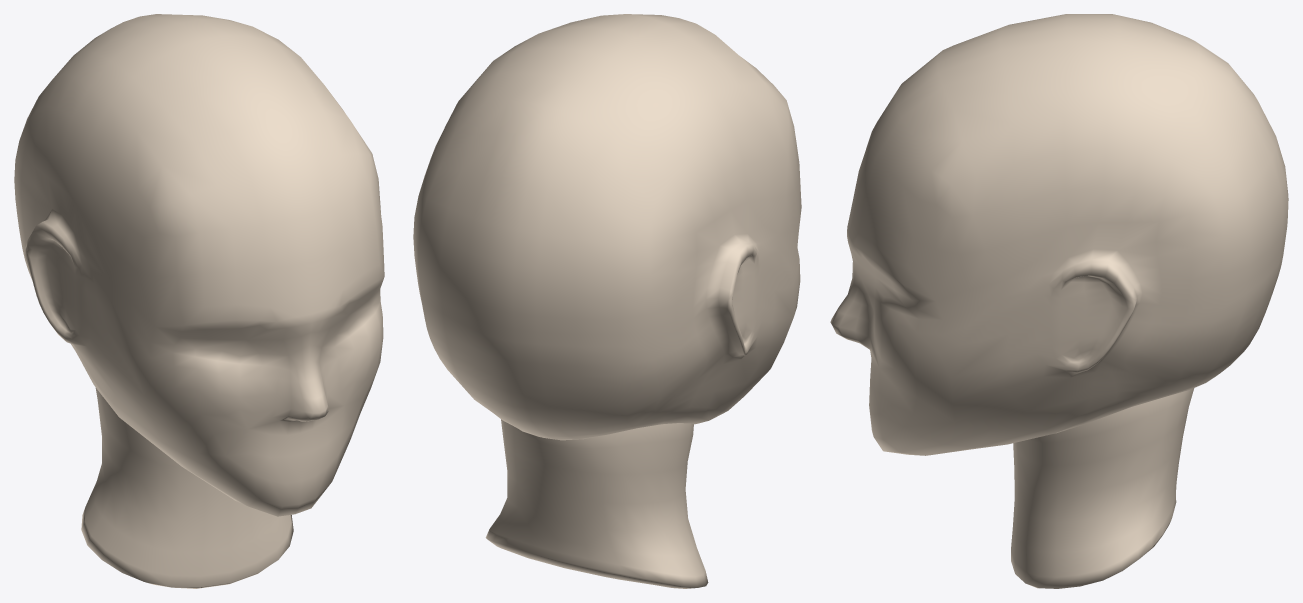
The model's file is VC_Avatar_Base_Head_02.fbx.
3 views of the same model, side by side, from view 1: azimuth 30°, elevation 25°; view 2: azimuth 150°, elevation 25°; view 3: azimuth 270°, elevation 25° (orthographic). The views are drawn at different scales.
Visible parts, largest first — view 1: VC_Avatar_Head_Base1, Vircon_Avatar_Hair:VC_Avatar_Neck; view 2: VC_Avatar_Head_Base1, Vircon_Avatar_Hair:VC_Avatar_Neck; view 3: VC_Avatar_Head_Base1, Vircon_Avatar_Hair:VC_Avatar_Neck.
Part boxes in pixels (x1=…): VC_Avatar_Head_Base1: x1=14, y1=14, x2=384, y2=516; Vircon_Avatar_Hair:VC_Avatar_Neck: x1=81, y1=387, x2=293, y2=588; VC_Avatar_Head_Base1: x1=413, y1=14, x2=801, y2=440; Vircon_Avatar_Hair:VC_Avatar_Neck: x1=485, y1=419, x2=708, y2=588; VC_Avatar_Head_Base1: x1=830, y1=14, x2=1288, y2=455; Vircon_Avatar_Hair:VC_Avatar_Neck: x1=1011, y1=388, x2=1194, y2=588.
Bounding box in the file's own units: 46.69 × 80.11 × 62.08.
